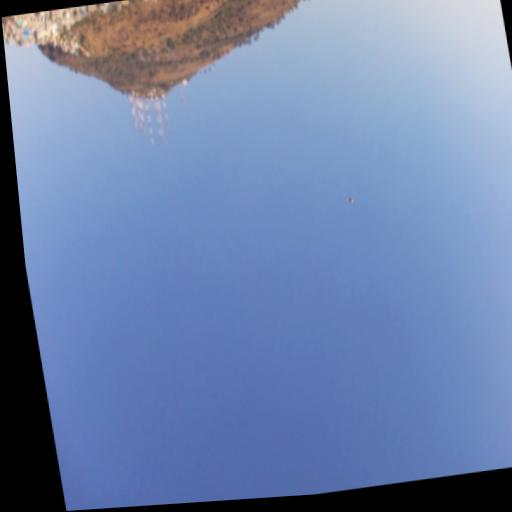drones: (345, 195, 356, 205)
